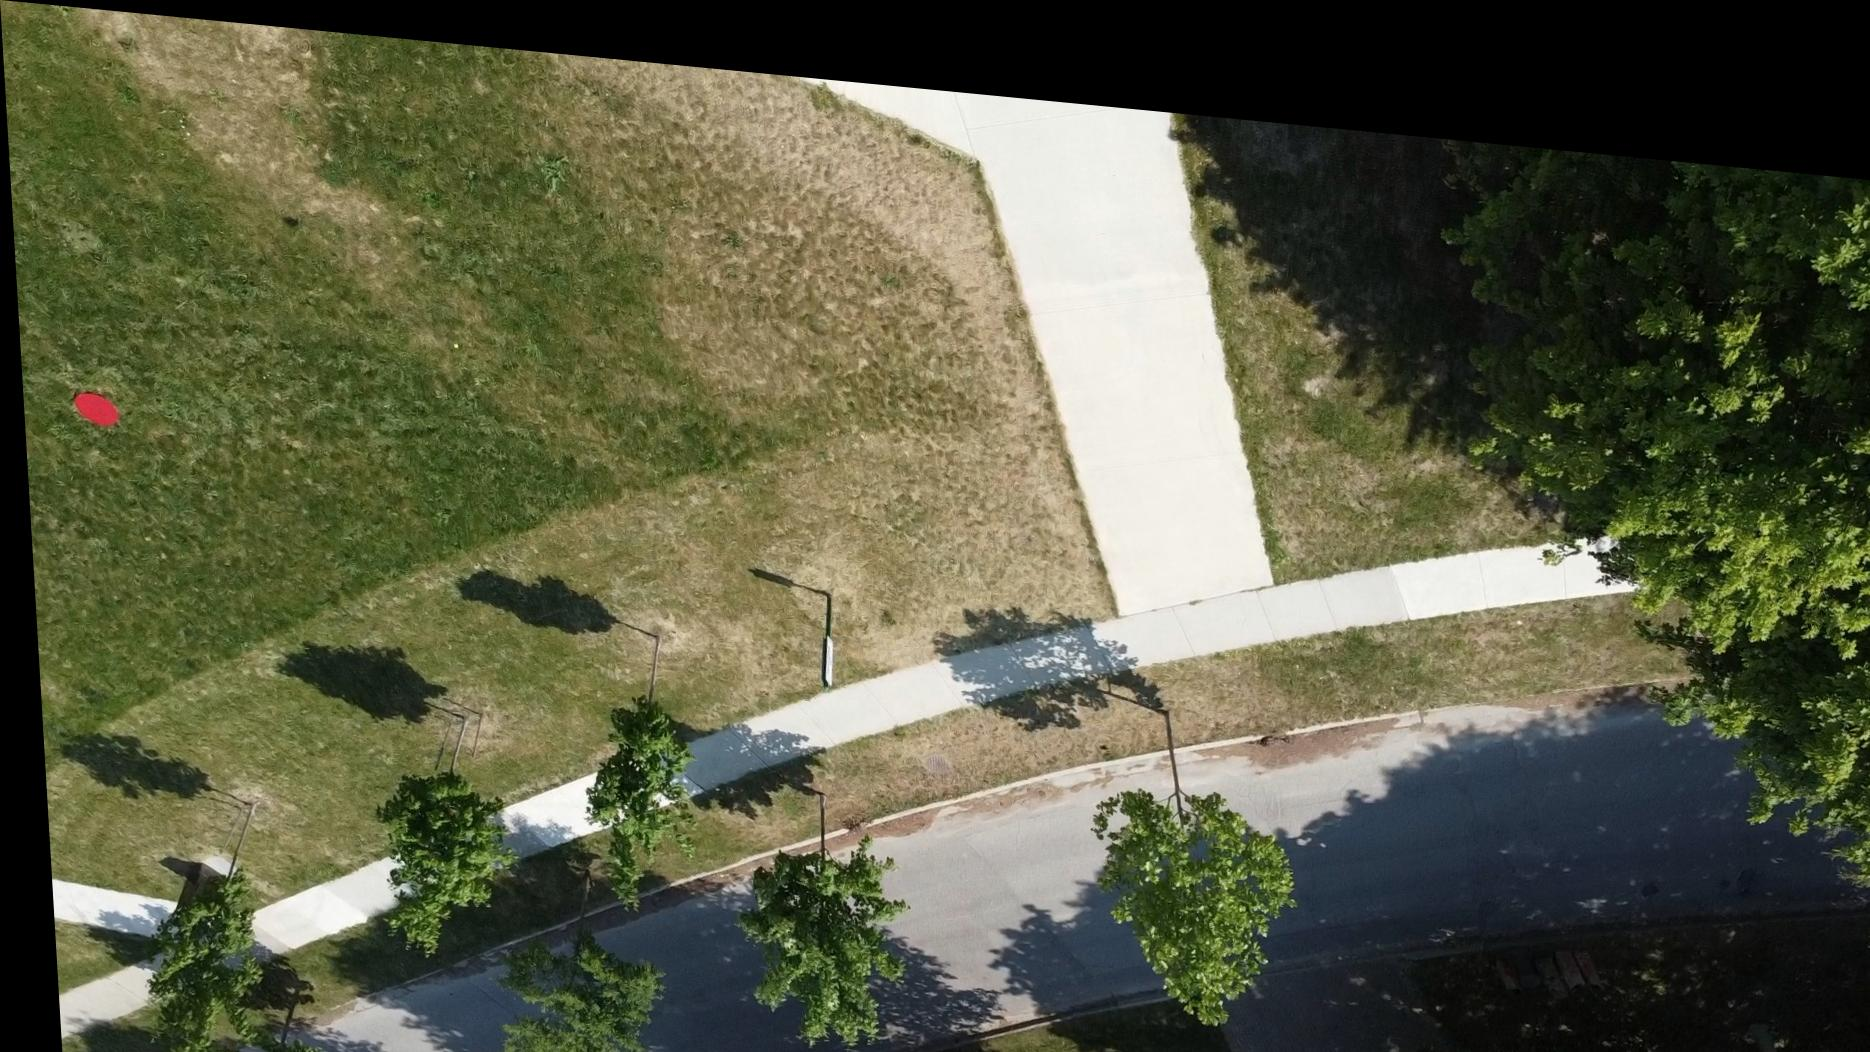Red: (67, 388, 116, 428)
